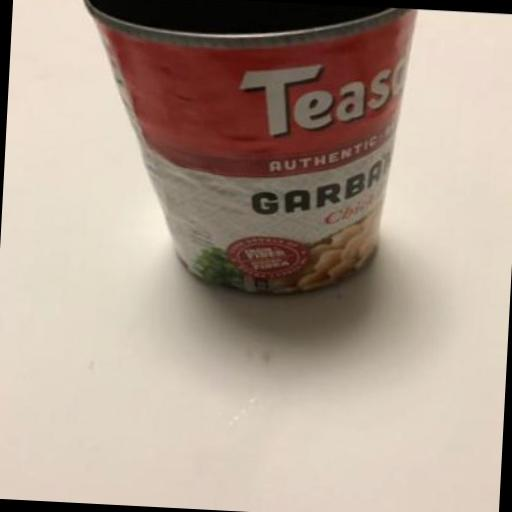metal: (69, 0, 420, 302)
